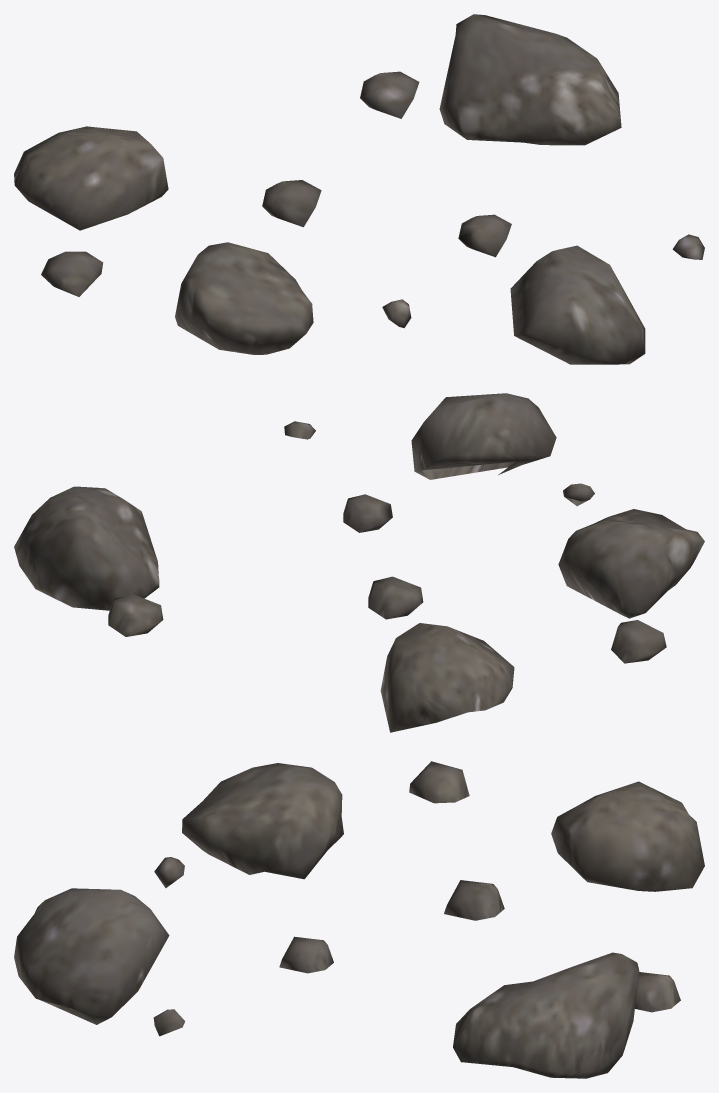
The model's file is Lobby_Pebbles.fbx.
The picture shows the model from 3 angles, top to bottom: view 1: azimuth 30°, elevation 25°; view 2: azimuth 150°, elevation 25°; view 3: azimuth 270°, elevation 25°; orthographic projection. The views are drawn at different scales.
Parts seen in each view (by area): view 1: SM_Lobby_Pebbles_01.mo; view 2: SM_Lobby_Pebbles_01.mo; view 3: SM_Lobby_Pebbles_01.mo.
Boxes of the visible parts, x1=… form: SM_Lobby_Pebbles_01.mo: x1=14, y1=14, x2=704, y2=364; SM_Lobby_Pebbles_01.mo: x1=14, y1=393, x2=704, y2=732; SM_Lobby_Pebbles_01.mo: x1=14, y1=761, x2=704, y2=1078.
Size of the model in its own units: 94.61 by 17.92 by 90.6.
